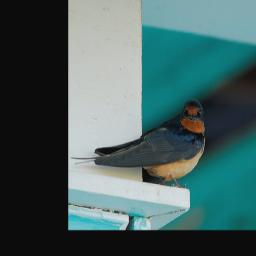Swallow: (71, 95, 209, 186)
